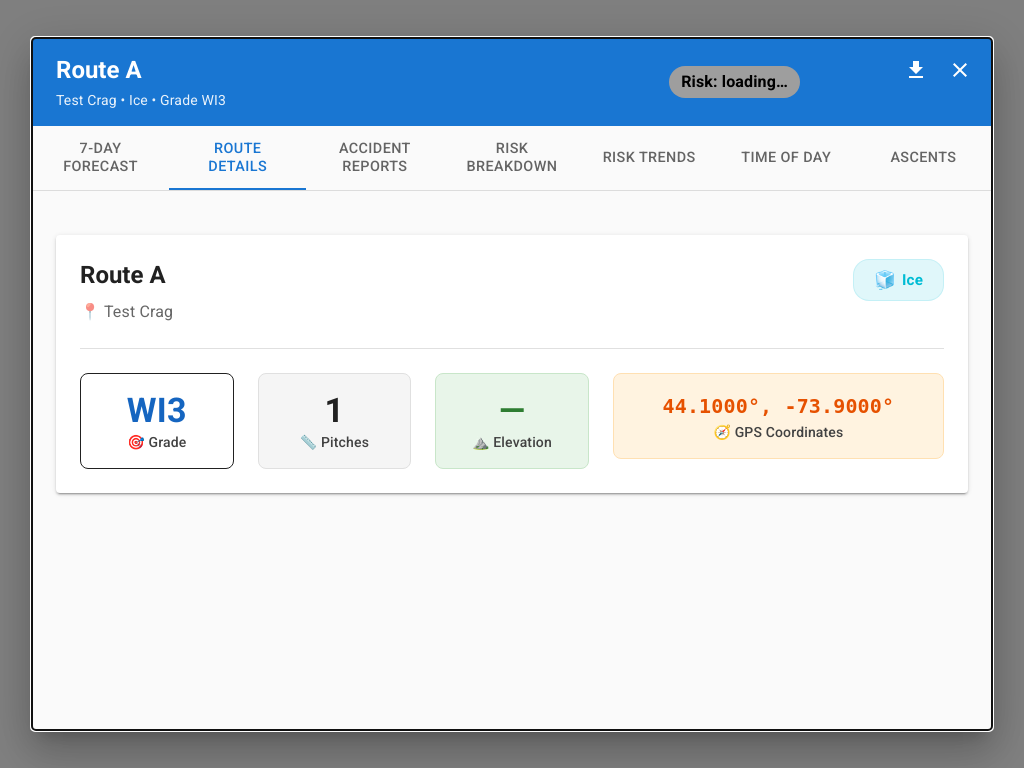
RouteAnalyticsModal accident and ascent figures › linked reports on a route without coordinates are listed under the unavailable notice
Click the tab "Accident Reports": (375, 158) [306,126,443,190]
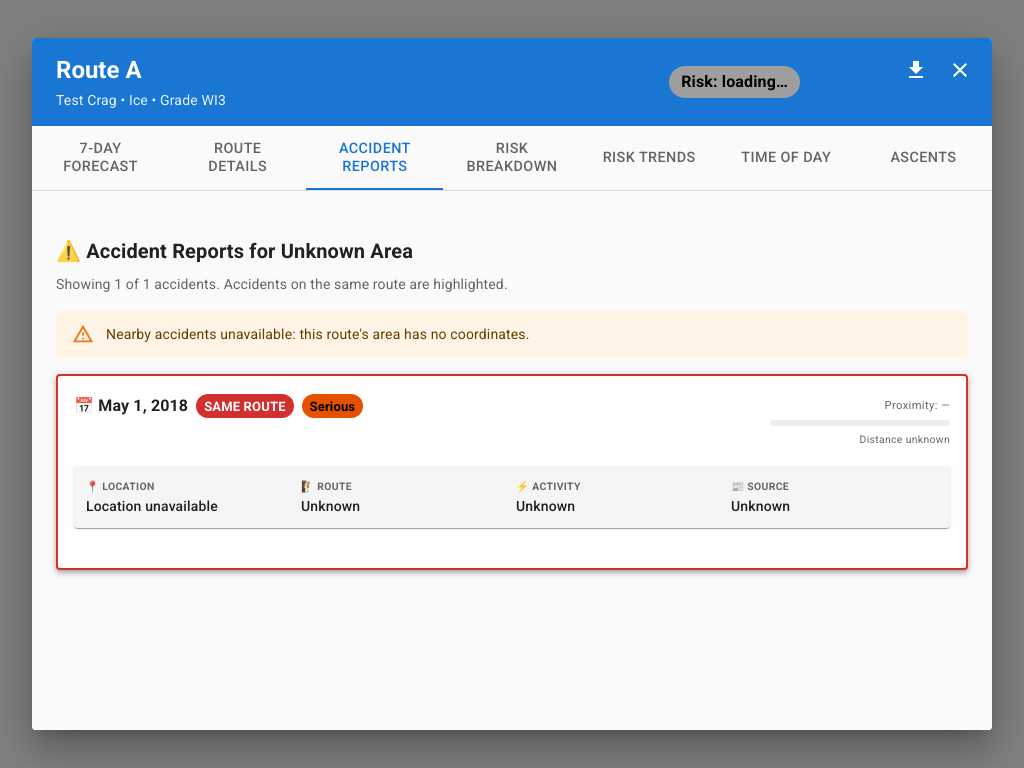
Expected: the text "SAME ROUTE" is shown, [204,399,286,414]
Expected: the text "Nearby accidents unavailable: this route's area has no coordinates." is shown, [106,326,530,342]
